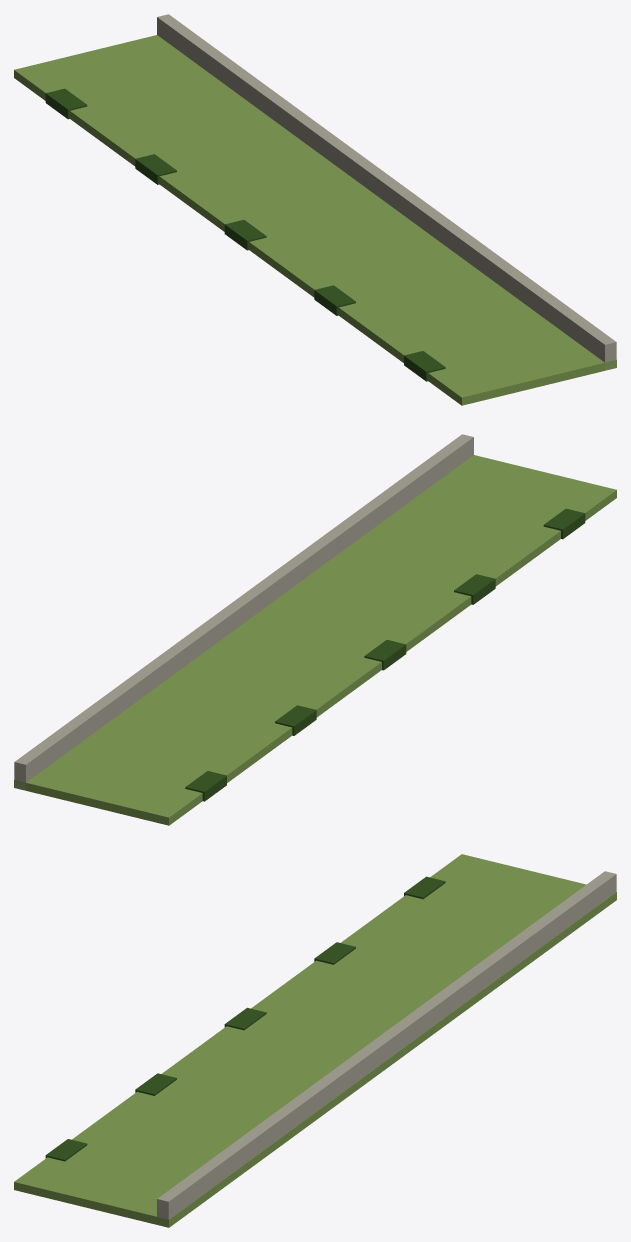
Rendered from road.planted-verge.glb.
The picture shows the model from 3 angles, top to bottom: view 1: azimuth 30°, elevation 25°; view 2: azimuth 150°, elevation 25°; view 3: azimuth 330°, elevation 25°; orthographic projection.
Visible parts, largest first — view 1: road.planted-verge; view 2: road.planted-verge; view 3: road.planted-verge.
Part boxes in pixels (x1,y1,x2,y2): road.planted-verge: [14, 14, 616, 405]; road.planted-verge: [14, 434, 616, 825]; road.planted-verge: [14, 854, 616, 1227].
Size of the model in its own units: 2.03 by 0.32 by 10.
